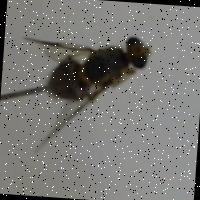Oriental-fruit-fly: (14, 24, 154, 158)
